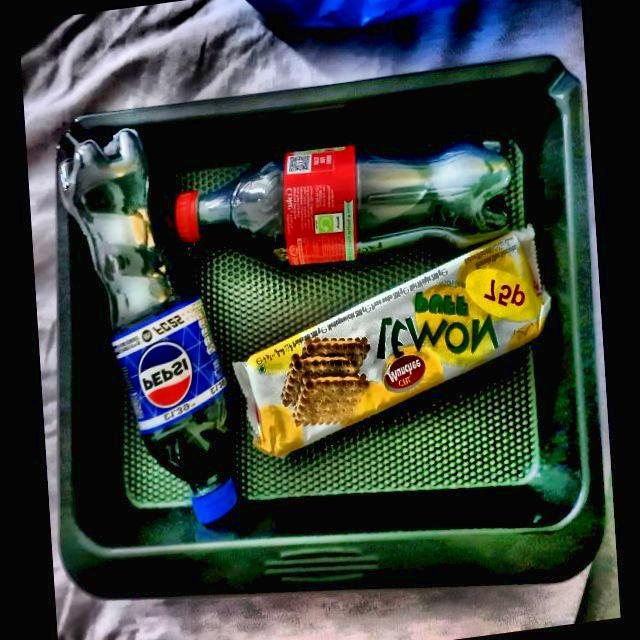coke-bottle: (169, 147, 521, 267)
lemon puff: (252, 236, 544, 445)
pepsi-bottle: (55, 130, 245, 516)
